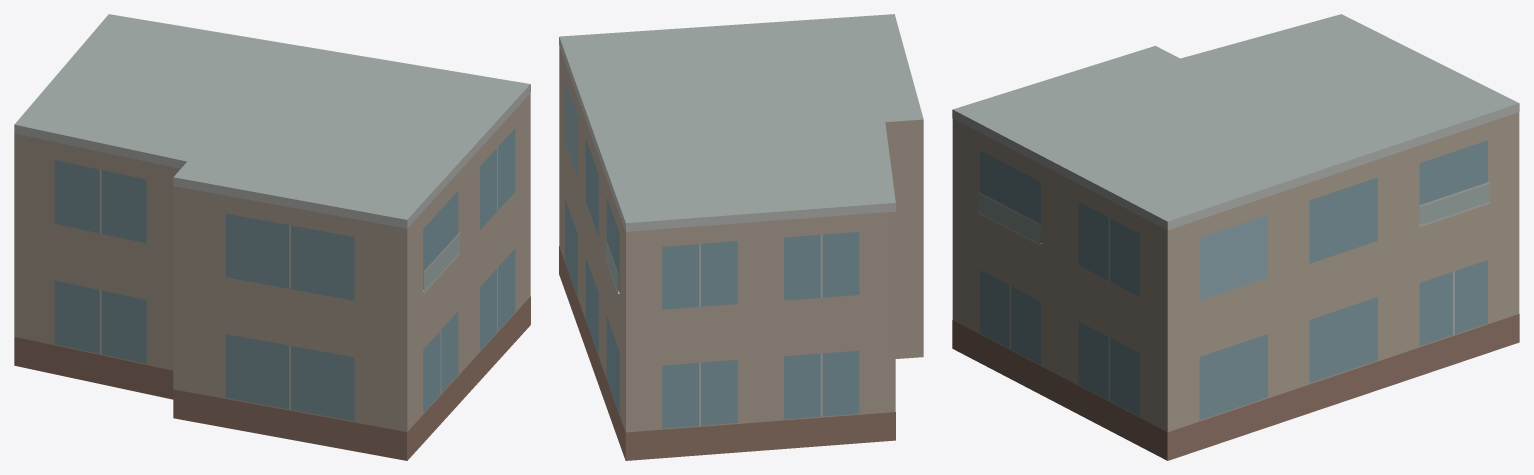
File: survey-upis-32765940.glb
The picture shows the model from 3 angles, left to right: view 1: azimuth 30°, elevation 25°; view 2: azimuth 150°, elevation 25°; view 3: azimuth 270°, elevation 25°; orthographic projection.
Parts seen in each view (by area): view 1: survey-upis-32765940.tmp; view 2: survey-upis-32765940.tmp; view 3: survey-upis-32765940.tmp.
Part boxes in pixels (x1=…): survey-upis-32765940.tmp: x1=14, y1=14, x2=530, y2=460; survey-upis-32765940.tmp: x1=559, y1=14, x2=923, y2=460; survey-upis-32765940.tmp: x1=952, y1=14, x2=1519, y2=460.
Size of the model in its own units: 12.49 by 6.7 by 14.4.
